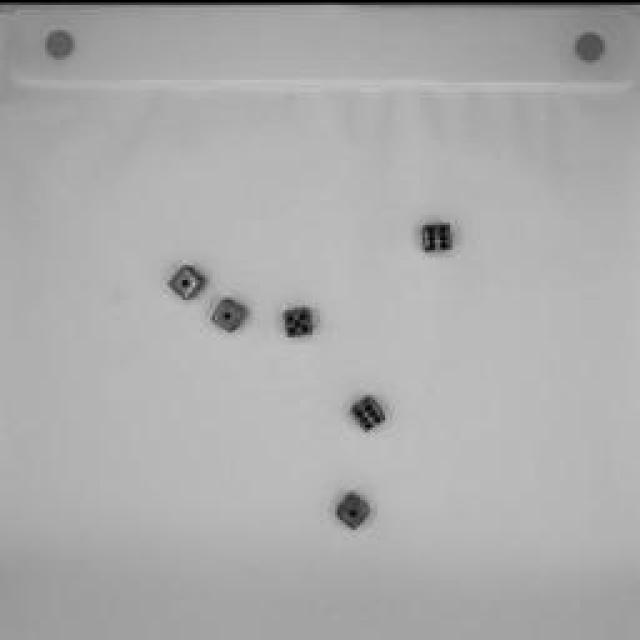dice_1: (165, 254, 215, 304), (329, 485, 381, 530), (209, 292, 251, 330)
dice_5: (278, 298, 318, 340)
dice_6: (345, 386, 395, 434), (418, 214, 458, 256)
